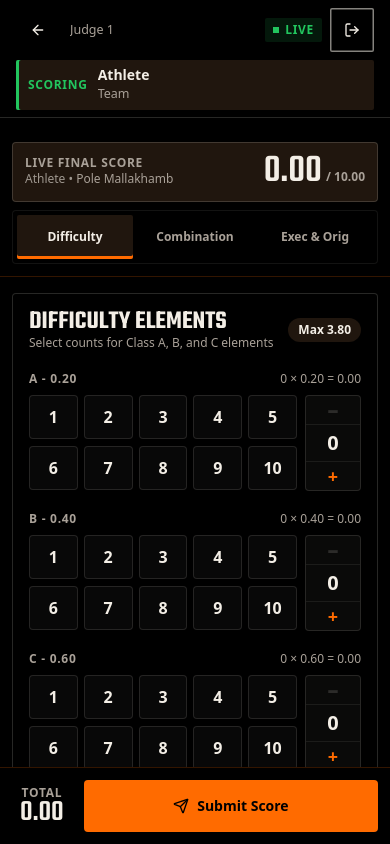
JudgeScoring — difficulty number grid › A4 B6 C1 picked on the grid is the full 3.80
The image size is (390, 844).
Click the button named "A - Class - 0.20: 4" at (218, 417), box [193,395,242,439]
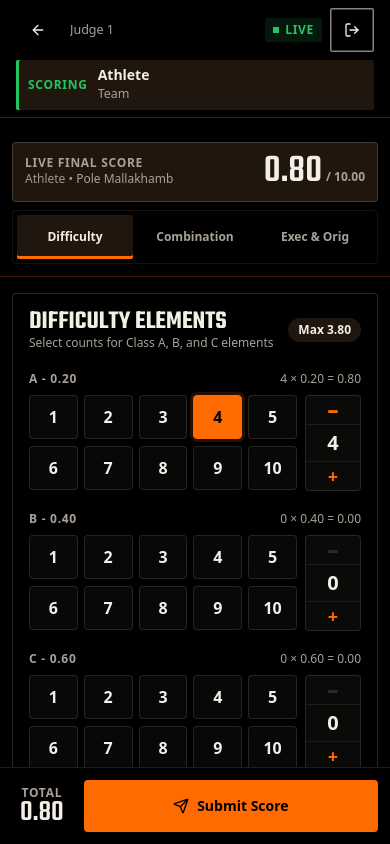
Click the button named "B - Class - 0.40: 6" at (53, 608), box [29,586,78,630]
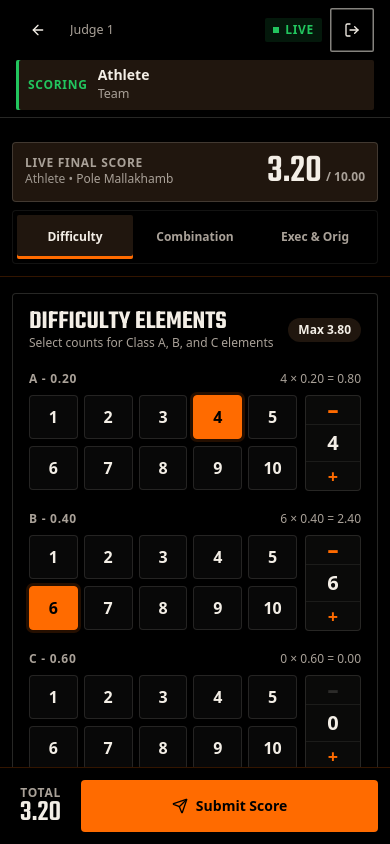
Click the button named "C - Class - 0.60: 1" at (53, 697), box [29,675,78,719]
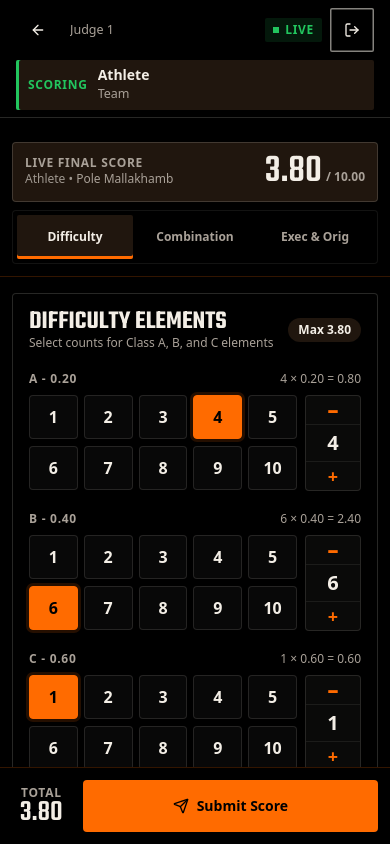
expect the text "3.80" next to "/ 10.00" is shown: met, box [265,142,322,200]
